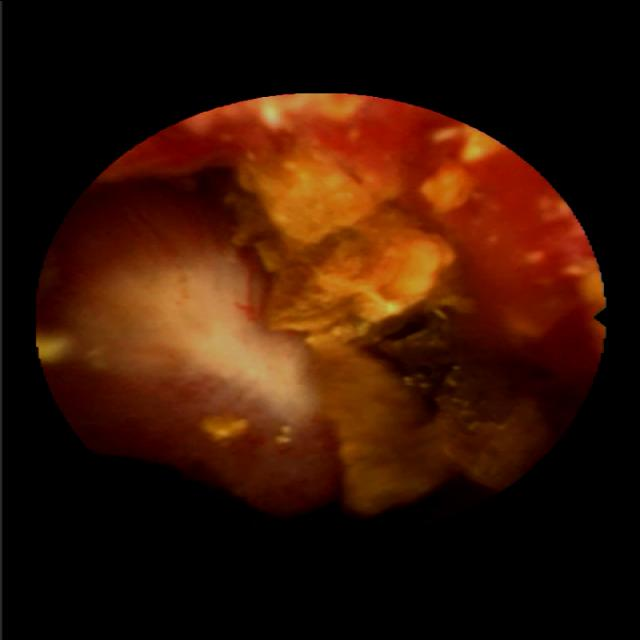stone: (204, 135, 549, 518), (420, 158, 478, 210), (201, 414, 247, 439)
